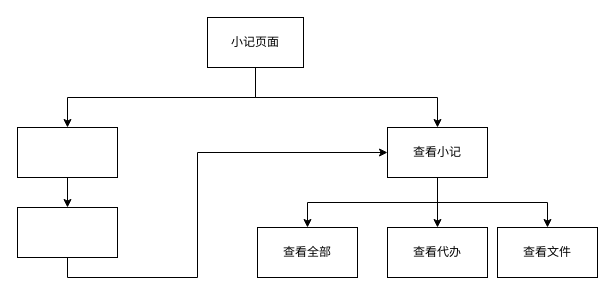
Some shapes in this 615 by 303 pixel diagram are drawn without their labels. The shapes that lost their labels are listed below. From the top down, each one's centre as x and y in pixels, then its label:
At point 67,152: "输入内容".
At point 67,232: "点击记".
